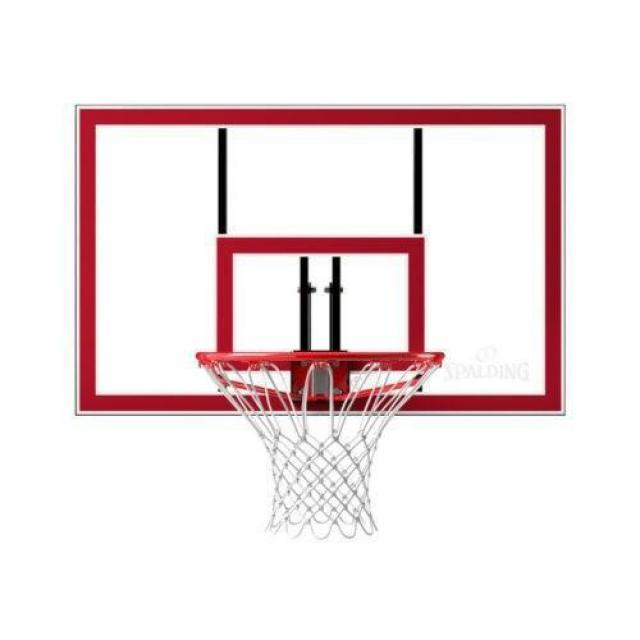hoop: (195, 352, 446, 540)
